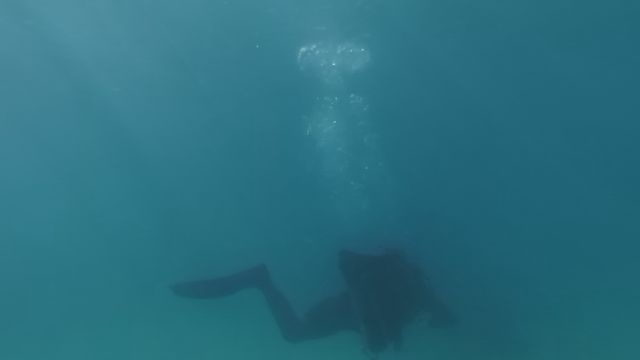Diver: (165, 241, 457, 356)
